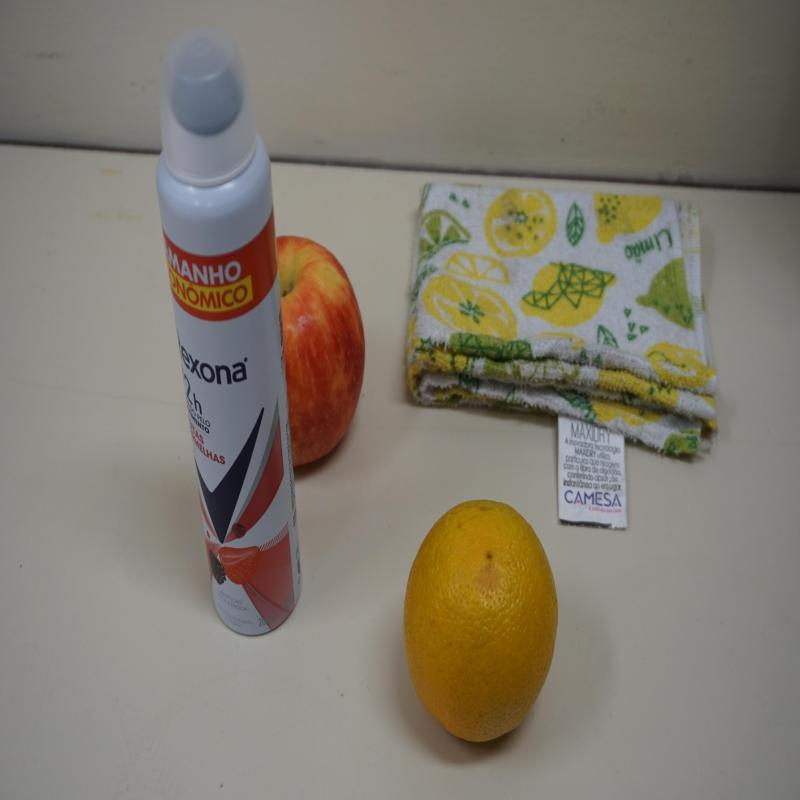Apple: (275, 237, 366, 470)
Cloth: (403, 177, 719, 532)
Orange: (401, 501, 560, 749)
